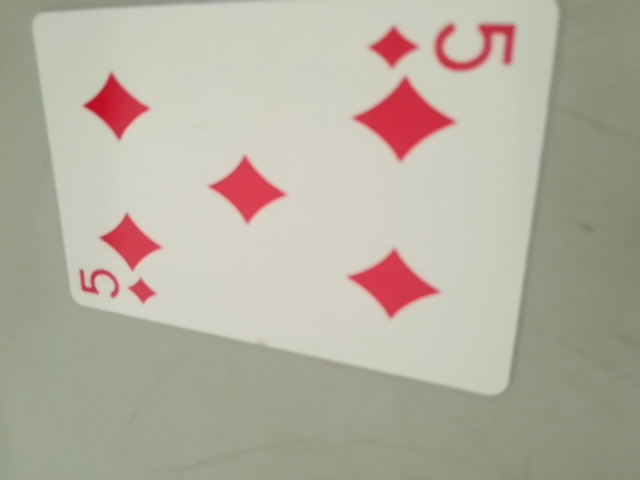fk 5: (362, 10, 523, 80), (73, 262, 160, 311)
